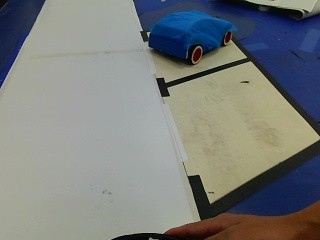car: (147, 8, 234, 64)
